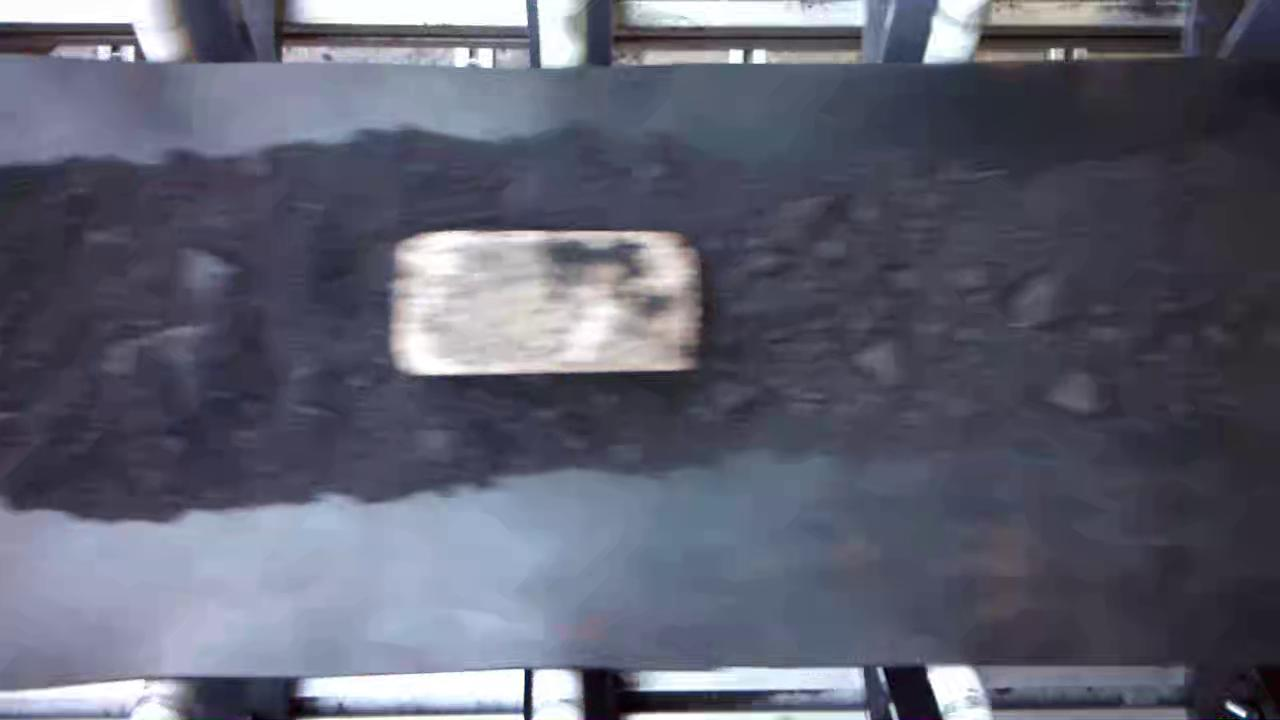conveyor: (1, 80, 1280, 656)
